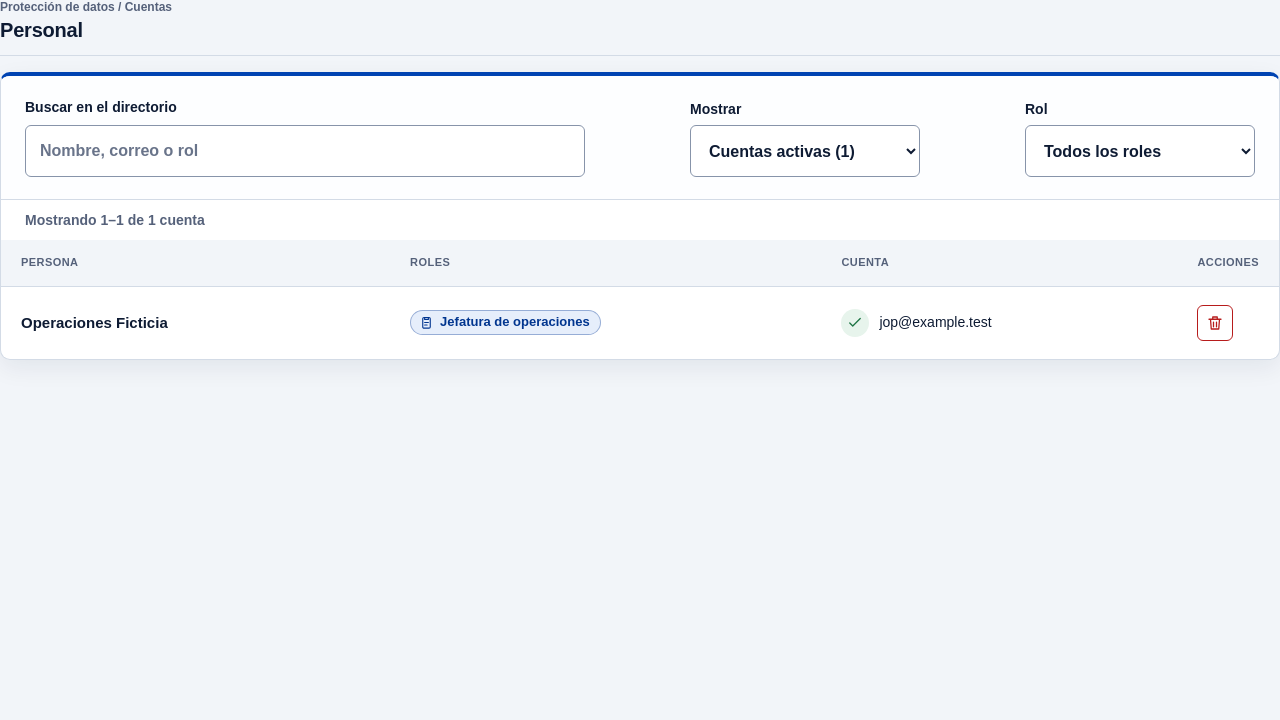
Scenario: Personal · cuentas de acceso (W05, W06) › un 409 de versión al desactivar ofrece cerrar y recargar
This screenshot has width=1280, height=720.
Expected: the text "Operaciones Ficticia" is shown, [21,314,168,331]
Click the button at (1215, 323), box [1197,305,1233,341]
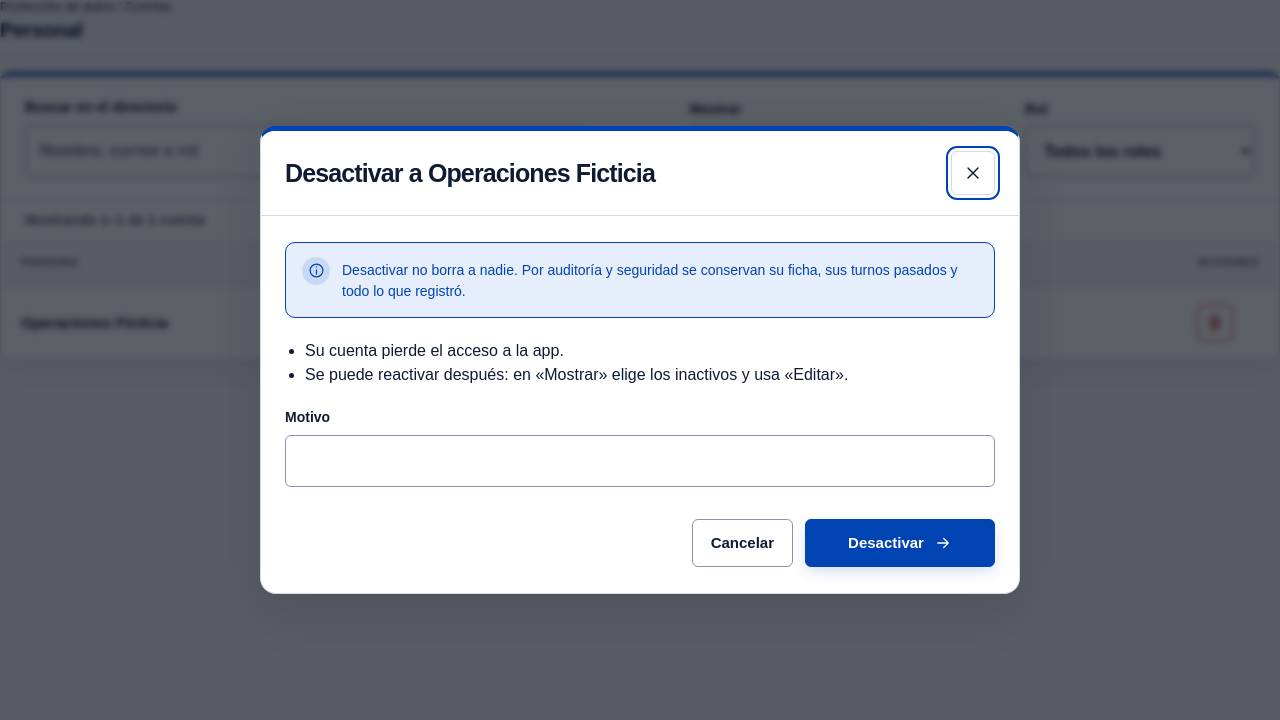
Expected: the text "Desactivar no borra a nadie" is shown, [342,262,958,299]
Type "Fin del contrato de prueba" into the field labelled "Motivo" at (640, 462), box [285,436,995,488]
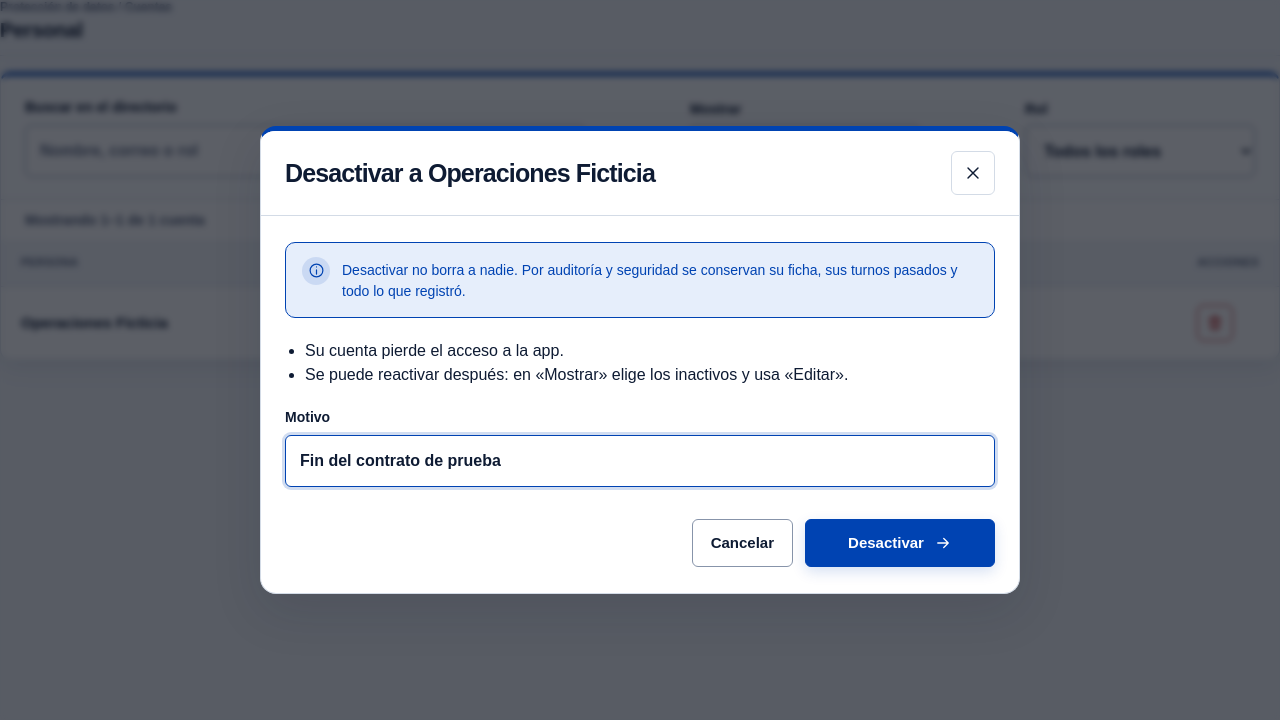
Click the button "Desactivar" at (900, 544), box [805,520,995,568]
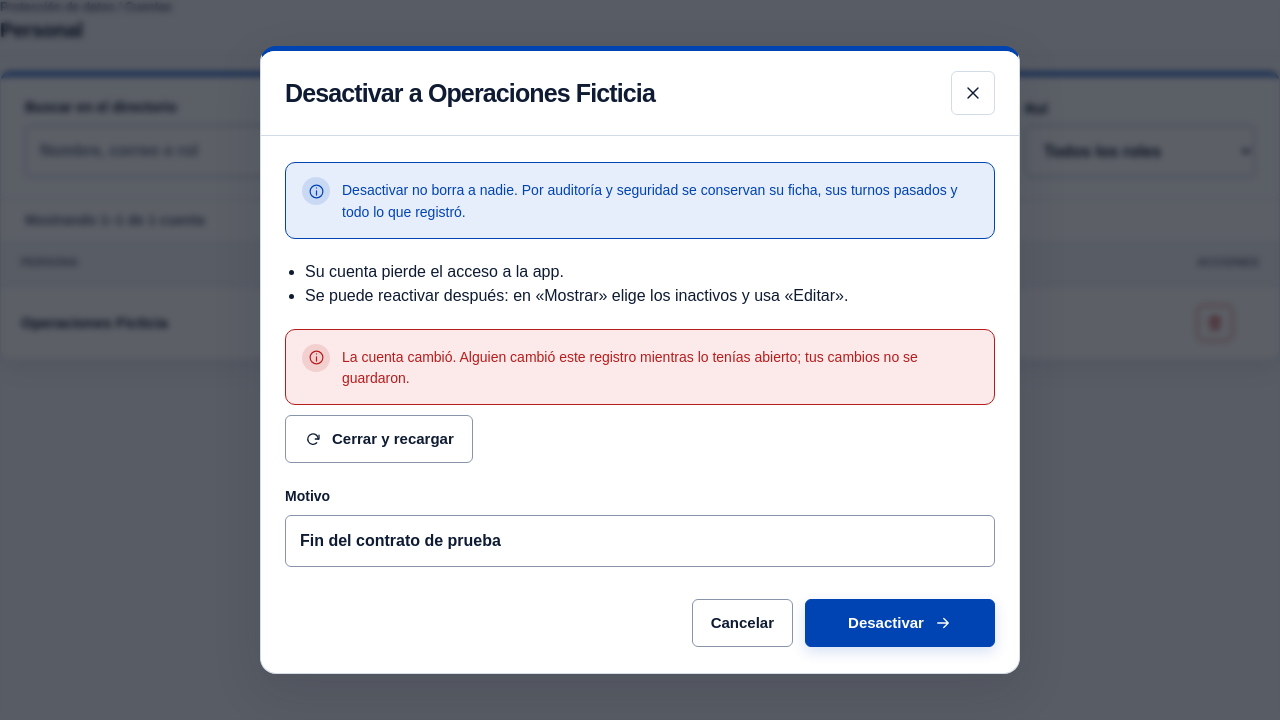
Click the button "Cerrar y recargar" at (379, 439), box [285,415,473,463]
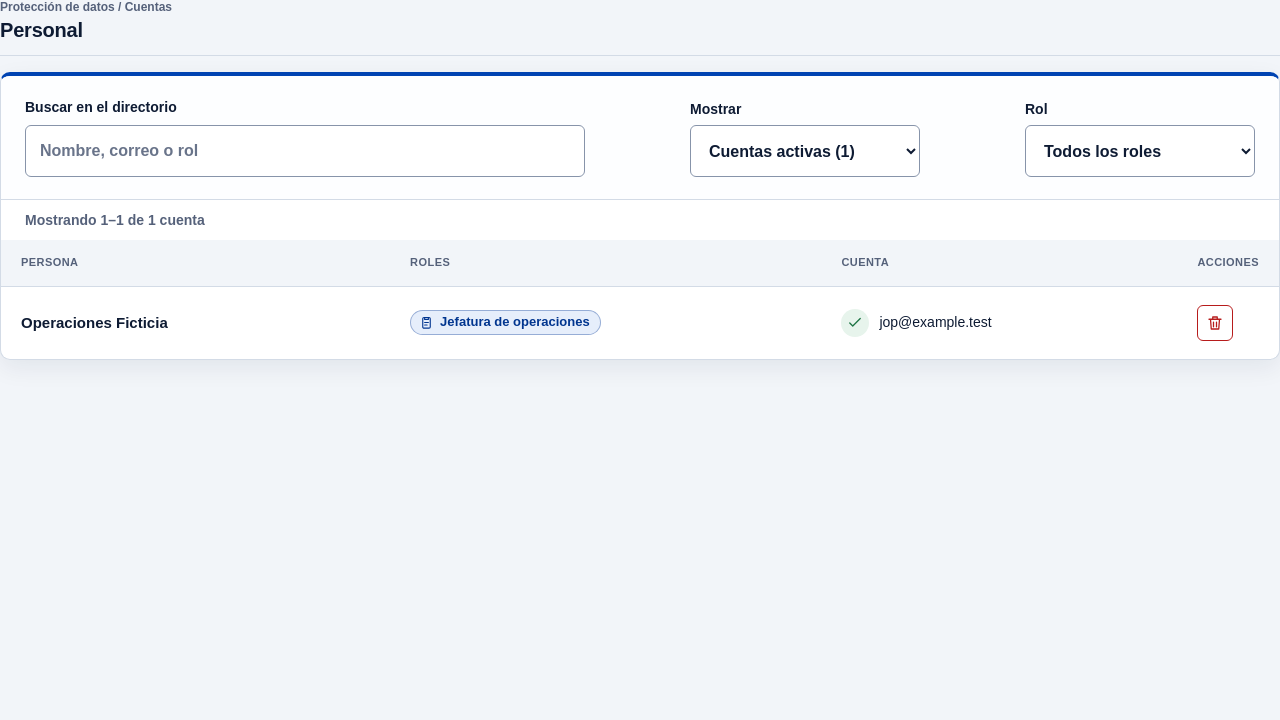
Expected: the dialog is gone
